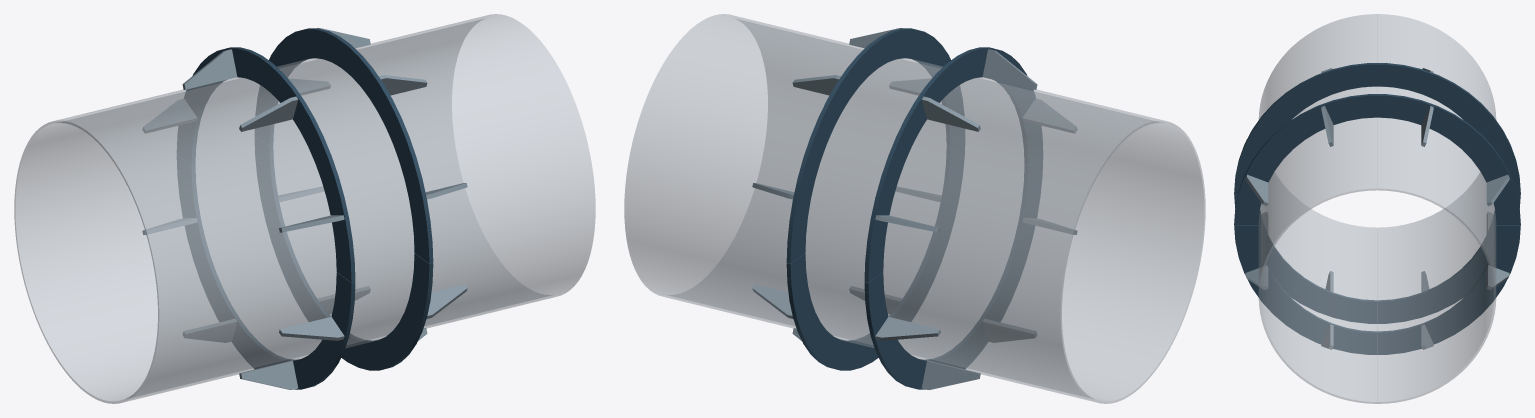
File: TS-666.00.00-18-opora-dn1020-D1230.glb
The picture shows the model from 3 angles, left to right: view 1: azimuth 30°, elevation 25°; view 2: azimuth 150°, elevation 25°; view 3: azimuth 270°, elevation 25°; orthographic projection. The views are drawn at different scales.
Visible parts, largest first — view 1: truba, polukoltso_1, polukoltso_11, polukoltso_16, polukoltso_6, rebro_8, rebro_18, rebro_17, rebro_9, rebro_7, rebro_19, rebro_12 (+1 smaller); view 2: truba, polukoltso_1, polukoltso_11, polukoltso_16, polukoltso_6, rebro_9, rebro_19, rebro_20, rebro_8, rebro_10, rebro_18, rebro_15 (+1 smaller); view 3: truba, polukoltso_1, polukoltso_11, polukoltso_6, polukoltso_16, rebro_2, rebro_5, rebro_12, rebro_15, rebro_3, rebro_4.
Boxes of the visible parts, bbox=[...] form: truba: bbox=[14, 14, 595, 403]; polukoltso_1: bbox=[255, 28, 433, 263]; polukoltso_11: bbox=[255, 137, 433, 370]; polukoltso_16: bbox=[177, 155, 355, 389]; polukoltso_6: bbox=[177, 47, 355, 282]; rebro_8: bbox=[182, 49, 237, 89]; rebro_18: bbox=[239, 360, 298, 389]; rebro_17: bbox=[279, 316, 344, 340]; rebro_9: bbox=[239, 96, 298, 131]; rebro_7: bbox=[143, 99, 196, 133]; rebro_19: bbox=[183, 319, 236, 342]; rebro_12: bbox=[426, 284, 467, 318]; truba: bbox=[624, 14, 1205, 403]; polukoltso_1: bbox=[786, 28, 964, 263]; polukoltso_11: bbox=[786, 137, 964, 370]; polukoltso_16: bbox=[864, 155, 1042, 389]; polukoltso_6: bbox=[864, 47, 1042, 282]; rebro_9: bbox=[982, 49, 1037, 89]; rebro_19: bbox=[921, 360, 980, 389]; rebro_20: bbox=[875, 316, 940, 340]; rebro_8: bbox=[921, 96, 980, 131]; rebro_10: bbox=[1023, 99, 1076, 133]; rebro_18: bbox=[983, 319, 1036, 342]; rebro_15: bbox=[752, 284, 793, 318]; truba: bbox=[1258, 14, 1496, 403]; polukoltso_1: bbox=[1234, 94, 1520, 224]; polukoltso_11: bbox=[1234, 225, 1520, 354]; polukoltso_6: bbox=[1234, 63, 1520, 193]; polukoltso_16: bbox=[1234, 194, 1520, 323]; rebro_2: bbox=[1486, 174, 1509, 206]; rebro_5: bbox=[1245, 174, 1268, 206]; rebro_12: bbox=[1245, 265, 1268, 289]; rebro_15: bbox=[1486, 265, 1509, 289]; rebro_3: bbox=[1421, 105, 1433, 146]; rebro_4: bbox=[1321, 105, 1333, 146].
Bounding box in the file's own units: 1772 × 1228 × 1230.
